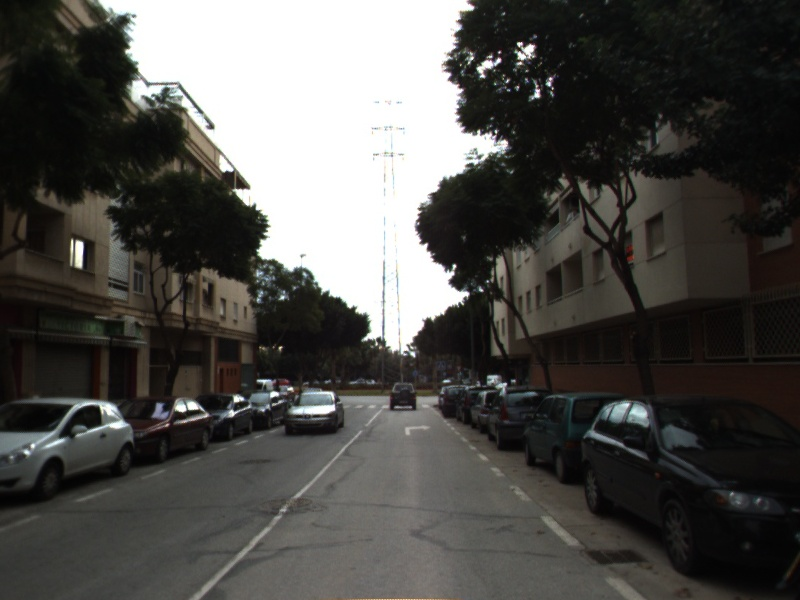RIGHT: (402, 422, 434, 437)
